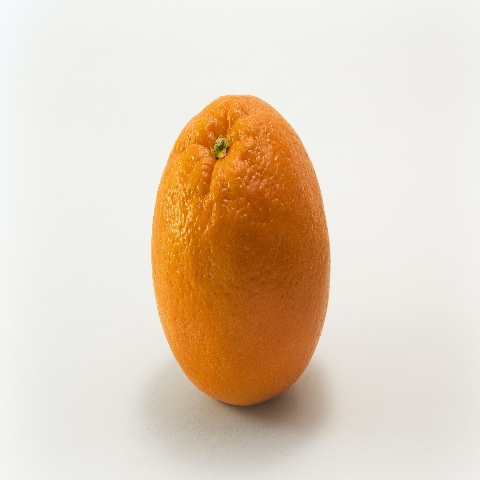orange: (122, 57, 377, 444)
